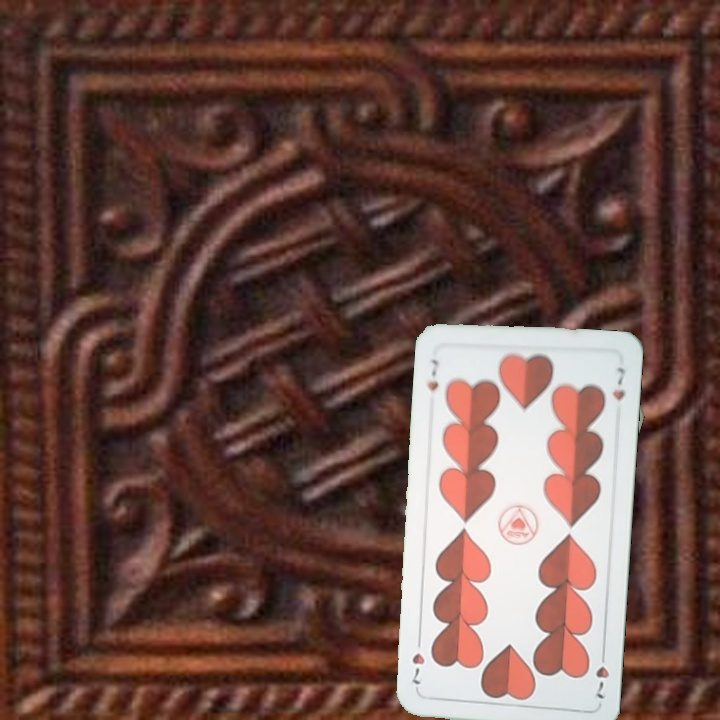H7: (592, 645, 612, 701), (422, 355, 442, 394)
